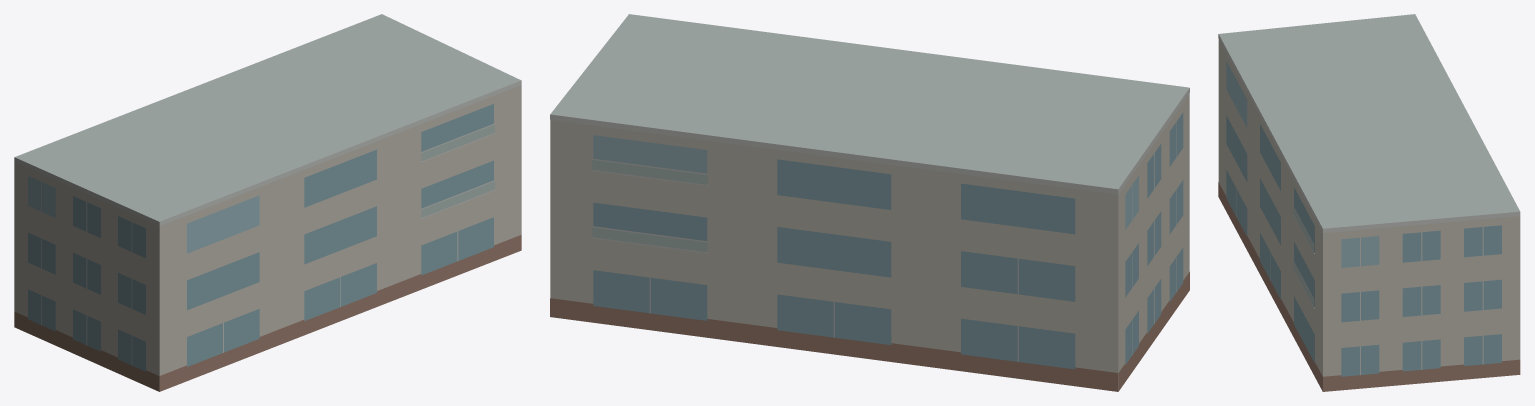
The model's file is survey-upis-32696849.glb.
3 views of the same model, side by side, from view 1: azimuth 30°, elevation 25°; view 2: azimuth 150°, elevation 25°; view 3: azimuth 270°, elevation 25° (orthographic). The views are drawn at different scales.
Parts seen in each view (by area): view 1: survey-upis-32696849.tmp; view 2: survey-upis-32696849.tmp; view 3: survey-upis-32696849.tmp.
Part boxes in pixels (<box>): survey-upis-32696849.tmp: <box>14,14,521,391</box>; survey-upis-32696849.tmp: <box>550,14,1189,391</box>; survey-upis-32696849.tmp: <box>1218,14,1520,391</box>.
Size of the model in its own units: 25.85 by 9.15 by 15.35.
